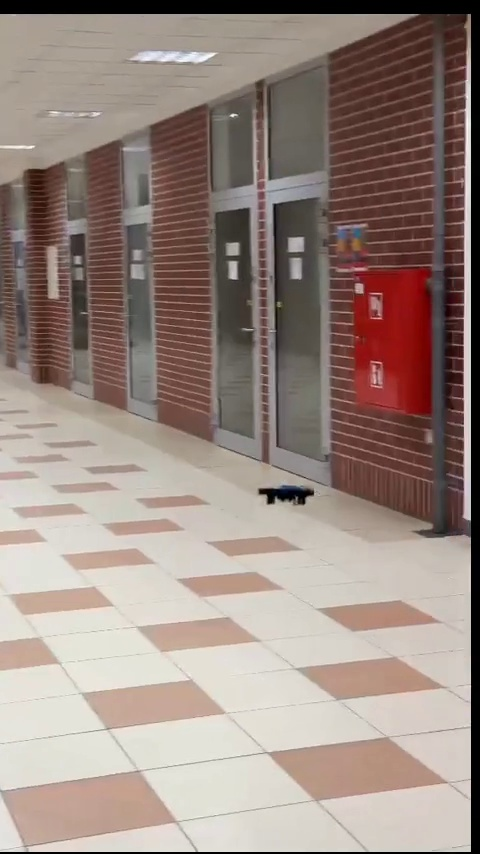drone: (255, 485, 313, 508)
